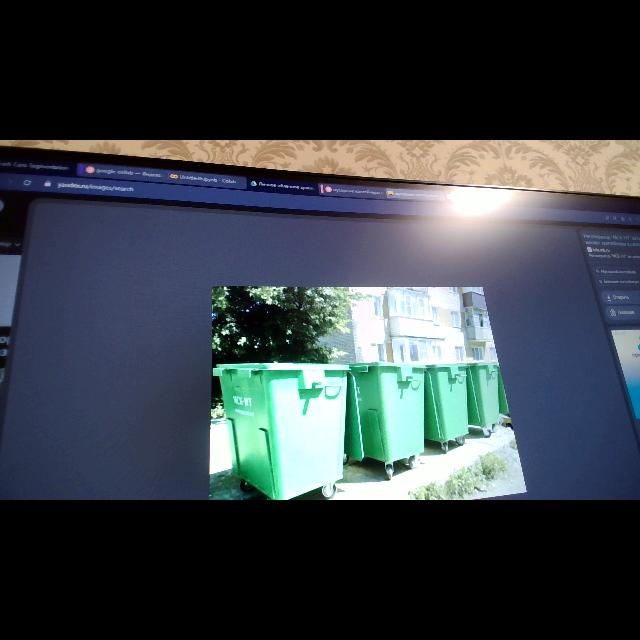Trash_Can_Empty: (213, 362, 350, 500), (345, 360, 427, 463), (424, 362, 470, 441), (467, 361, 500, 427)
